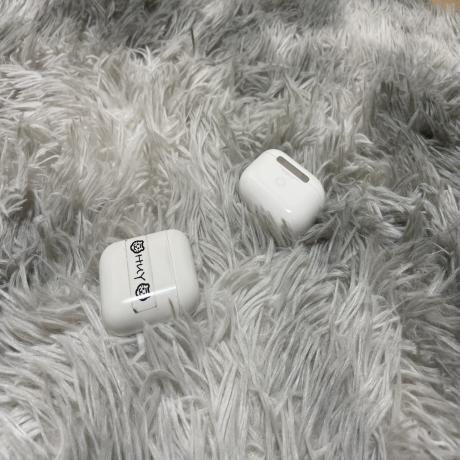airpod2: (92, 226, 203, 340)
airpod3: (231, 141, 328, 242)
